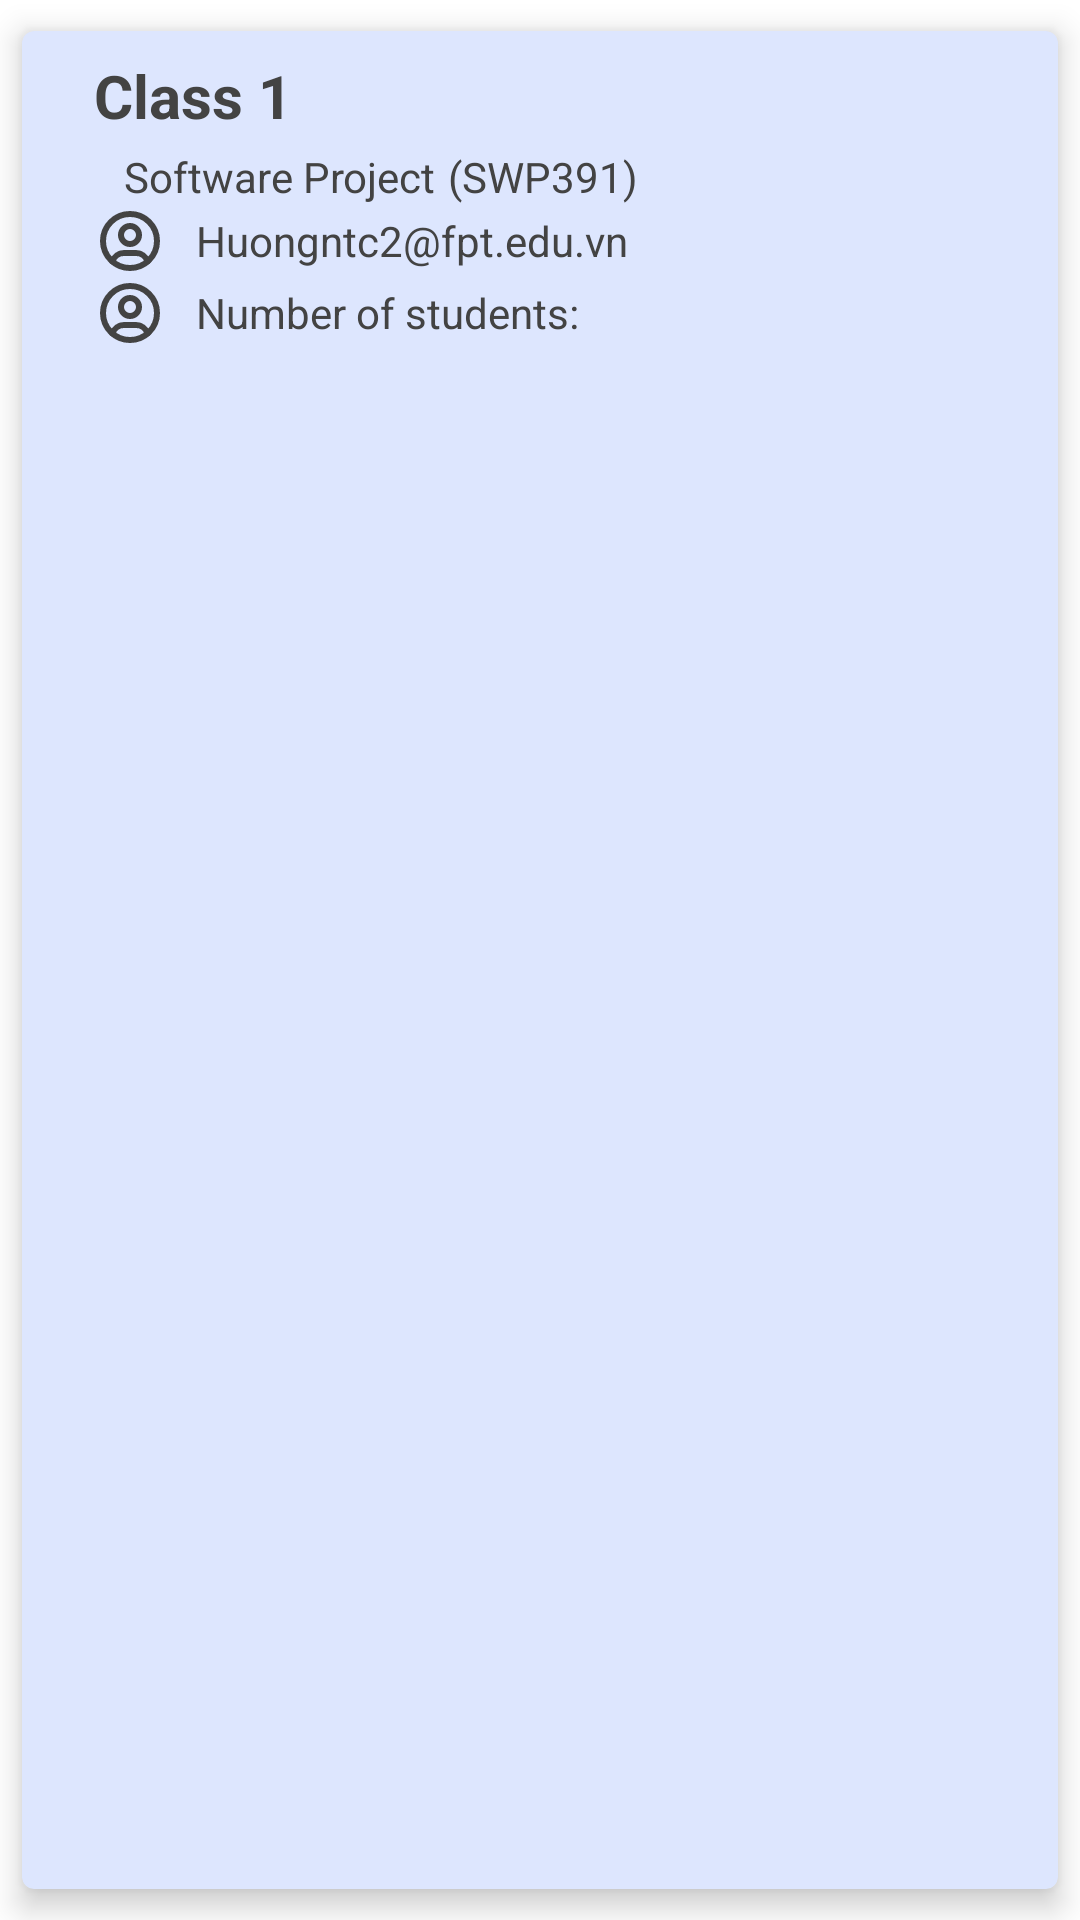

Screen size 1080 x 1920. Icon name, then its center in pixels as (x=x, y=y):
user circle: (x=130, y=241), (x=130, y=313)
